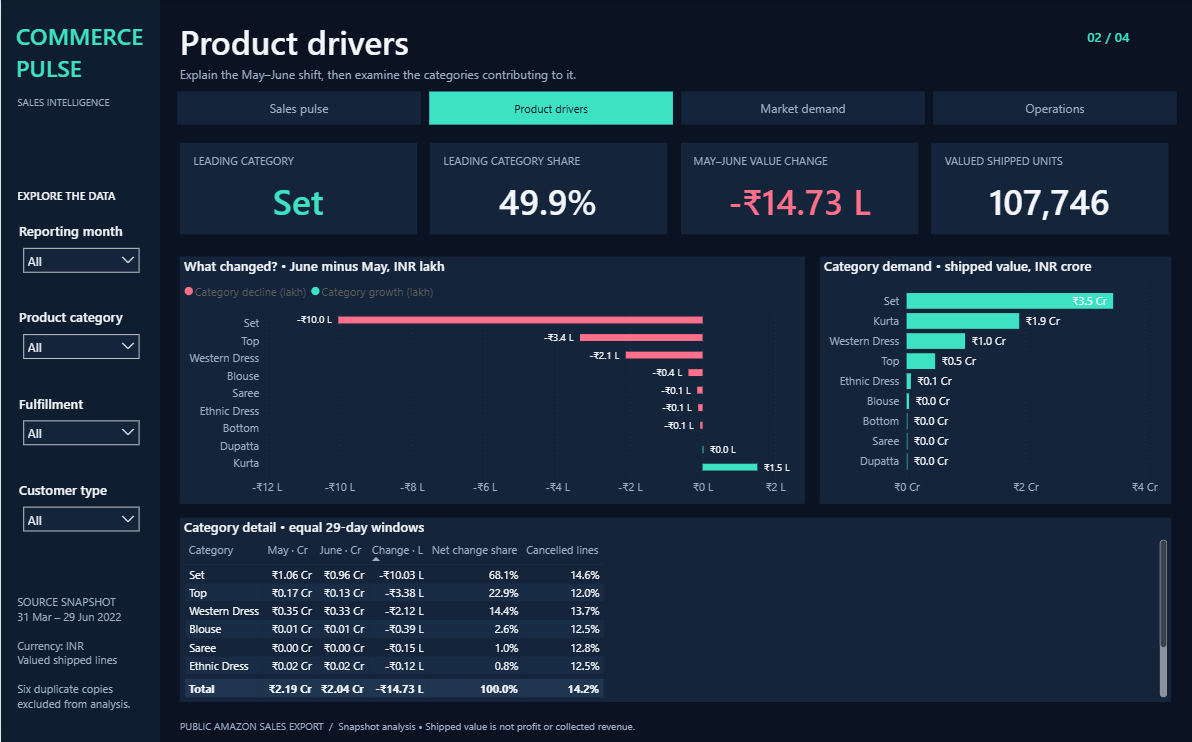

Layout of this report page (visuals, bound fields, positions):
{"tool":"powerbi","page":{"name":"Product drivers","canvas":[1440,900],"ordinal":1},"visuals":[{"type":"textbox","box":[0,0,192,900],"z":0},{"type":"textbox","box":[216,174,286,110],"z":1},{"type":"textbox","box":[518,174,286,110],"z":1},{"type":"textbox","box":[820,174,286,110],"z":1},{"type":"textbox","box":[1122,174,286,110],"z":1},{"type":"pageNavigator","box":[212,112,1208,40],"z":10},{"type":"card","fields":{"Values":["Sales.Leading Category"]},"box":[228,209,262,67],"z":10},{"type":"card","fields":{"Values":["Sales.Leading Category Share"]},"box":[530,209,262,67],"z":10},{"type":"card","fields":{"Values":["Sales.Value Change (lakh)"]},"box":[832,209,262,67],"z":10},{"type":"card","fields":{"Values":["Sales.Shipped Units Display"]},"box":[1134,209,262,67],"z":10},{"type":"slicer","title":"Reporting month","fields":{"Values":["Date.month_label"]},"box":[16,268,160,88],"z":10},{"type":"clusteredBarChart","title":"What changed? • June minus May, INR lakh","fields":{"Category":["Product.category"],"Y":["Sales.Category decline (lakh)","Sales.Category growth (lakh)"]},"box":[216,310,754,298],"z":10},{"type":"clusteredBarChart","title":"Category demand • shipped value, INR crore","fields":{"Category":["Product.category"],"Y":["Sales.Sales Value (crore)"]},"box":[988,310,424,298],"z":10},{"type":"slicer","title":"Product category","fields":{"Values":["Product.category"]},"box":[16,372,160,88],"z":10},{"type":"slicer","title":"Fulfillment","fields":{"Values":["Sales.fulfillment"]},"box":[16,476,160,88],"z":10},{"type":"slicer","title":"Customer type","fields":{"Values":["Sales.Customer Segment"]},"box":[16,580,160,88],"z":10},{"type":"tableEx","title":"Category detail • equal 29-day windows","fields":{"Values":["Product.category","Sales.May Value (crore)","Sales.June Value (crore)","Sales.Value Change (lakh)","Sales.Net Decline Contribution","Sales.Cancelled Line Rate"]},"box":[216,626,1196,222],"z":10},{"type":"textbox","box":[216,24,760,54],"z":20},{"type":"textbox","box":[18,26,158,86],"z":20},{"type":"textbox","box":[1310,34,104,34],"z":20},{"type":"textbox","box":[216,80,960,26],"z":20},{"type":"textbox","box":[20,114,152,28],"z":20},{"type":"textbox","box":[232,186,254,23],"z":20},{"type":"textbox","box":[534,186,254,23],"z":20},{"type":"textbox","box":[836,186,254,23],"z":20},{"type":"textbox","box":[1138,186,254,23],"z":20},{"type":"textbox","box":[20,228,152,28],"z":20},{"type":"textbox","box":[20,718,152,150],"z":20},{"type":"textbox","box":[216,867,1198,26],"z":20}]}

Visuals, with their boxes in screenshot pixels (x1, y1, x2, y2), scaled from the page's 1440x900 canvas onto the 1192x742 screenshot:
textbox: 0/0/159/741
textbox: 179/143/416/234
textbox: 429/143/666/234
textbox: 679/143/916/234
textbox: 929/143/1166/234
pageNavigator: 175/92/1175/125
card - Sales.Leading Category: 189/172/406/228
card - Sales.Leading Category Share: 439/172/656/228
card - Sales.Value Change (lakh): 689/172/906/228
card - Sales.Shipped Units Display: 939/172/1156/228
"Reporting month" slicer: 13/221/146/294
"What changed? • June minus May, INR lakh" clusteredBarChart: 179/256/803/501
"Category demand • shipped value, INR crore" clusteredBarChart: 818/256/1169/501
"Product category" slicer: 13/307/146/379
"Fulfillment" slicer: 13/392/146/465
"Customer type" slicer: 13/478/146/551
"Category detail • equal 29-day windows" tableEx: 179/516/1169/699
textbox: 179/20/808/64
textbox: 15/21/146/92
textbox: 1084/28/1170/56
textbox: 179/66/973/87
textbox: 17/94/142/117
textbox: 192/153/402/172
textbox: 442/153/652/172
textbox: 692/153/902/172
textbox: 942/153/1152/172
textbox: 17/188/142/211
textbox: 17/592/142/716
textbox: 179/715/1170/736
